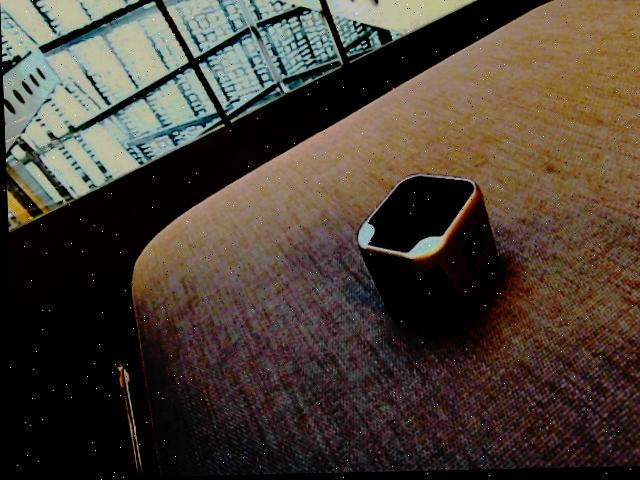adapter: (352, 173, 497, 332)
